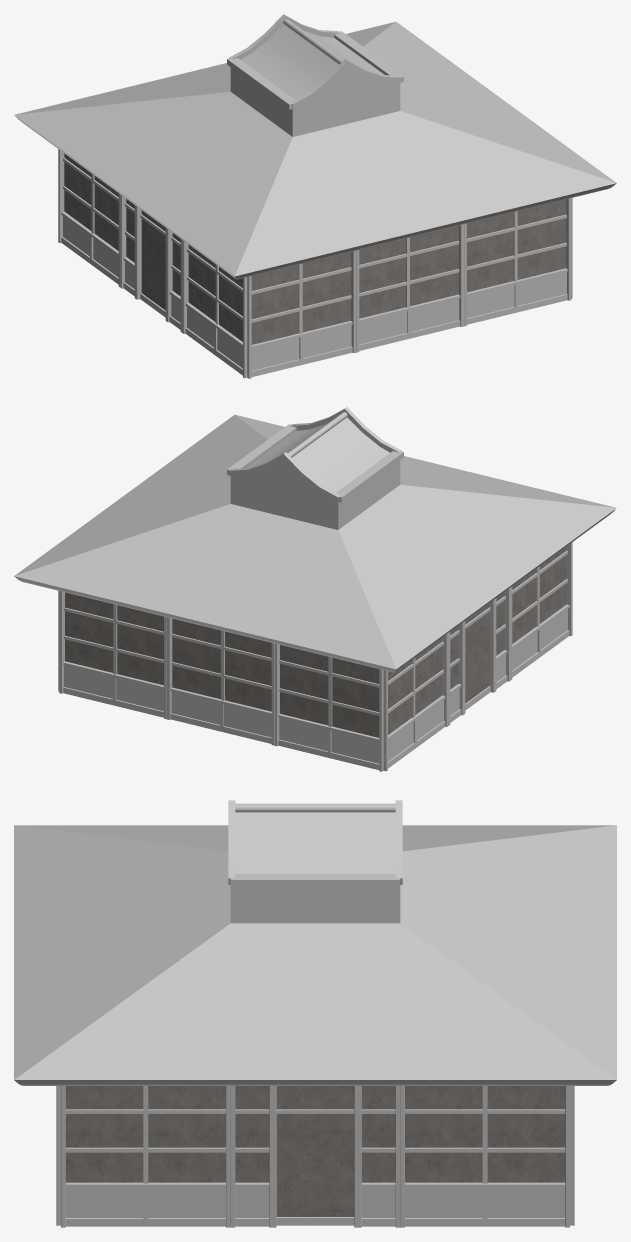
File: Japanese Buildings 4.fbx
3 renders of one model, top to bottom at view 1: azimuth 30°, elevation 25°; view 2: azimuth 150°, elevation 25°; view 3: azimuth 270°, elevation 25°, orthographic. The views are drawn at different scales.
Visible parts, largest first — view 1: Japanese_Buildings_4; view 2: Japanese_Buildings_4; view 3: Japanese_Buildings_4.
Boxes of the visible parts, left/top/right/bottom form: Japanese_Buildings_4: left=14, top=14, right=616, bottom=378; Japanese_Buildings_4: left=14, top=407, right=616, bottom=771; Japanese_Buildings_4: left=14, top=800, right=616, bottom=1227.
Size of the model in its own units: 711 by 413 by 711.
